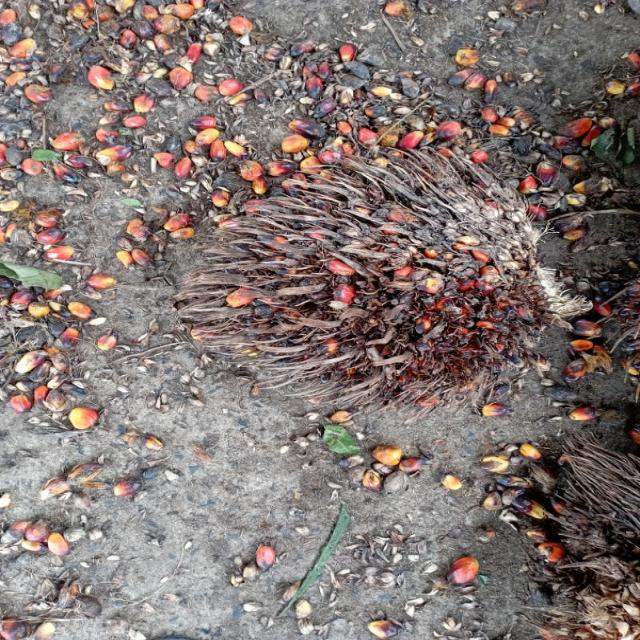fraksi 4: (136, 91, 608, 507)
